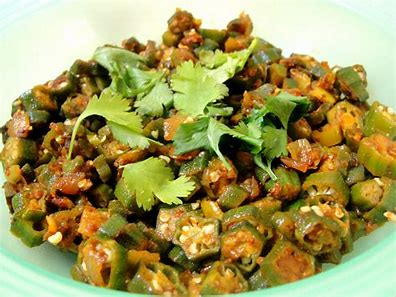inorganic: (6, 13, 379, 273)
